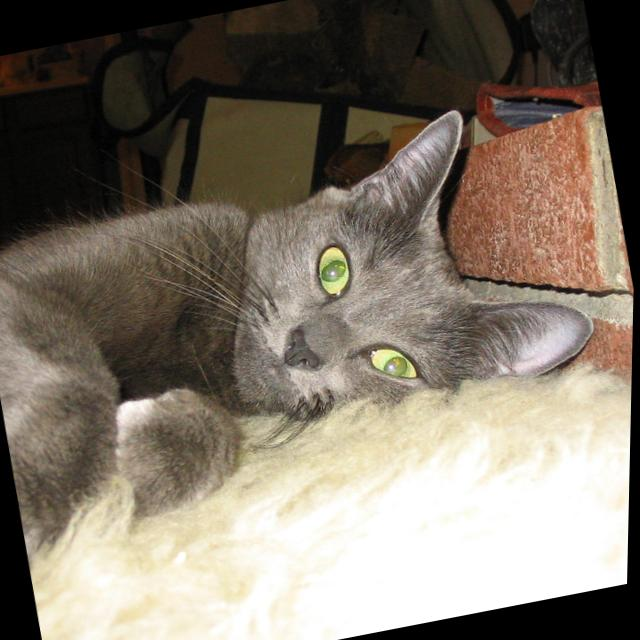animals: (247, 94, 602, 414)
